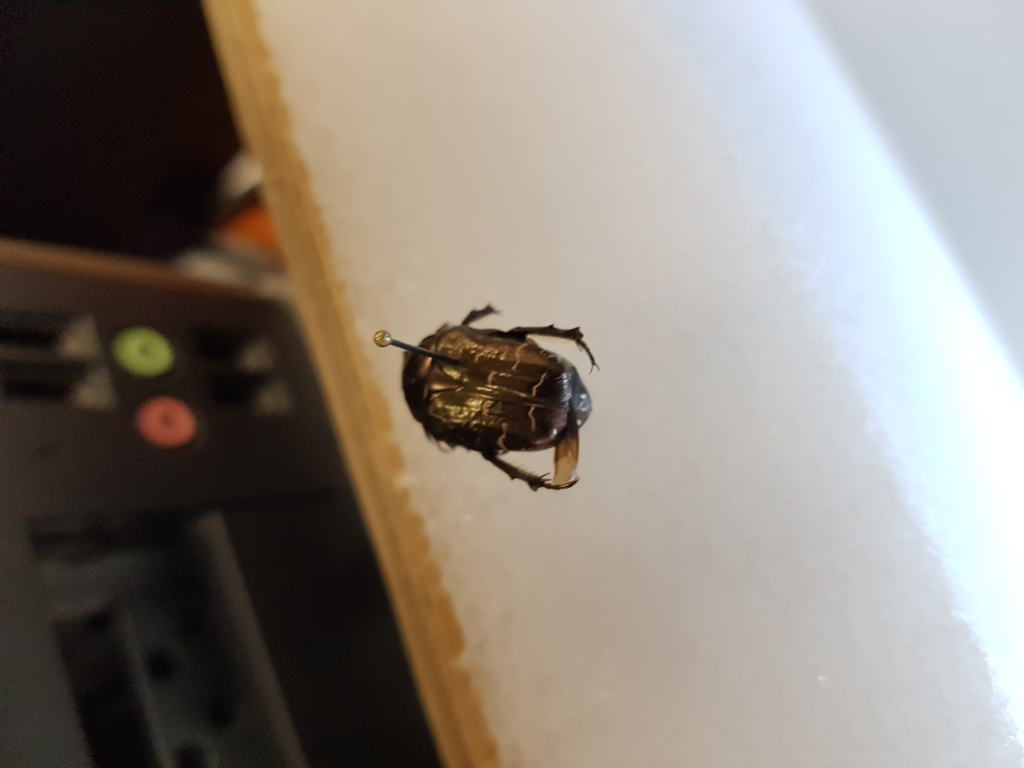Cetonia_kemali: (399, 285, 606, 494)
